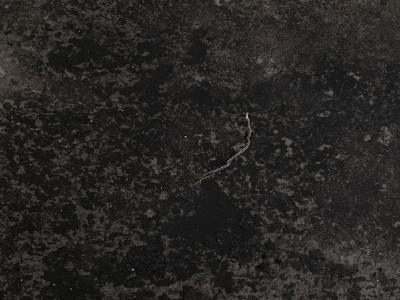Root: (193, 112, 252, 185)
